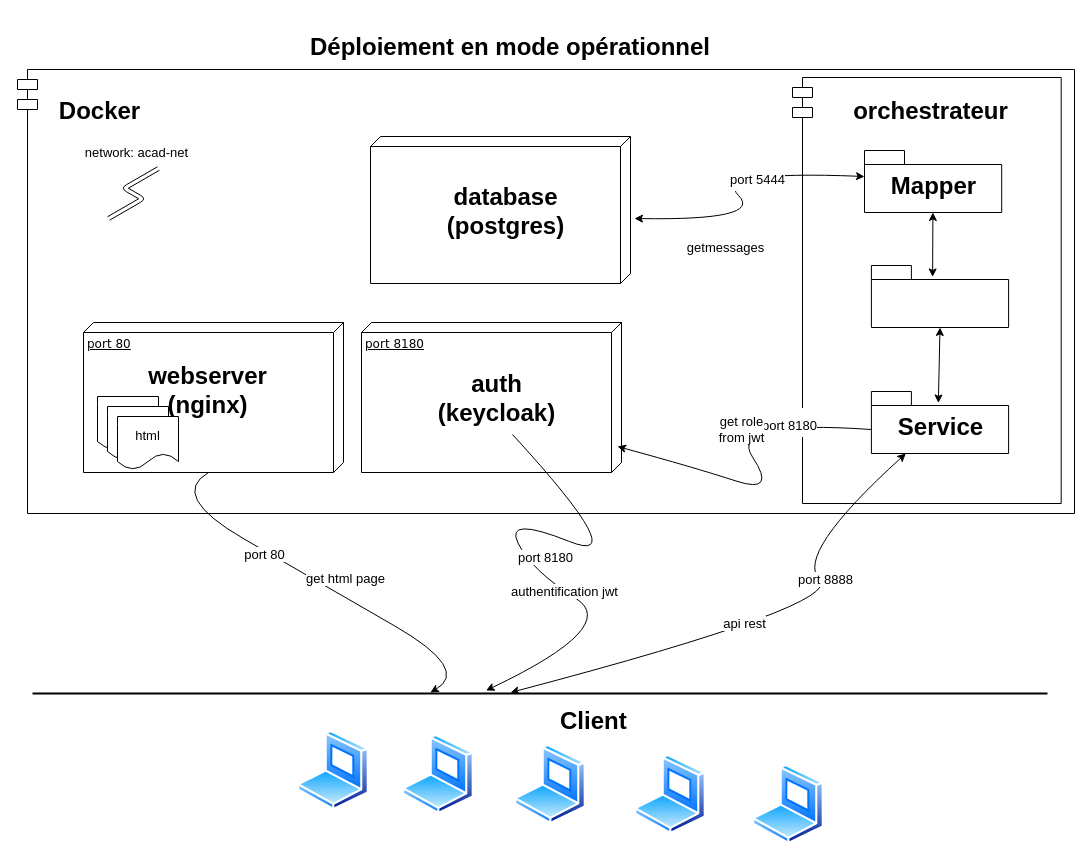
Some shapes in this 1092 by 861 pixel diagram are drawn without their labels. Each missing label, with the box of its shape:
Business: (870, 264, 1009, 328)
port 5432: (370, 136, 630, 284)
